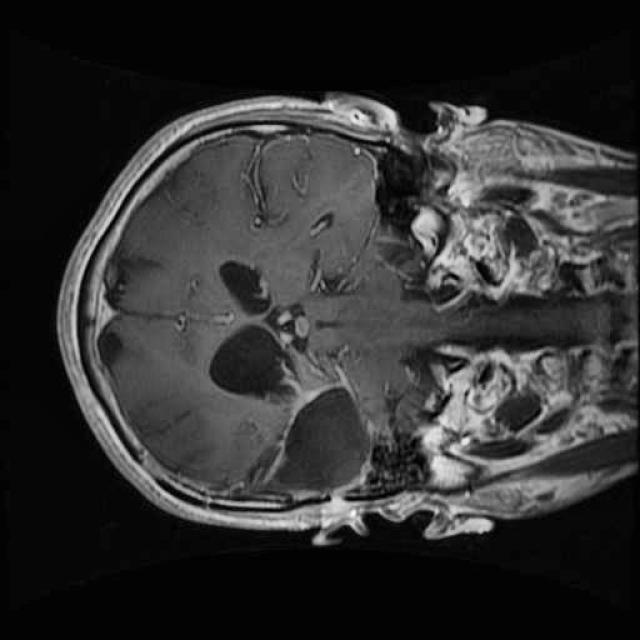Non-Tumor: (243, 355, 416, 525)
